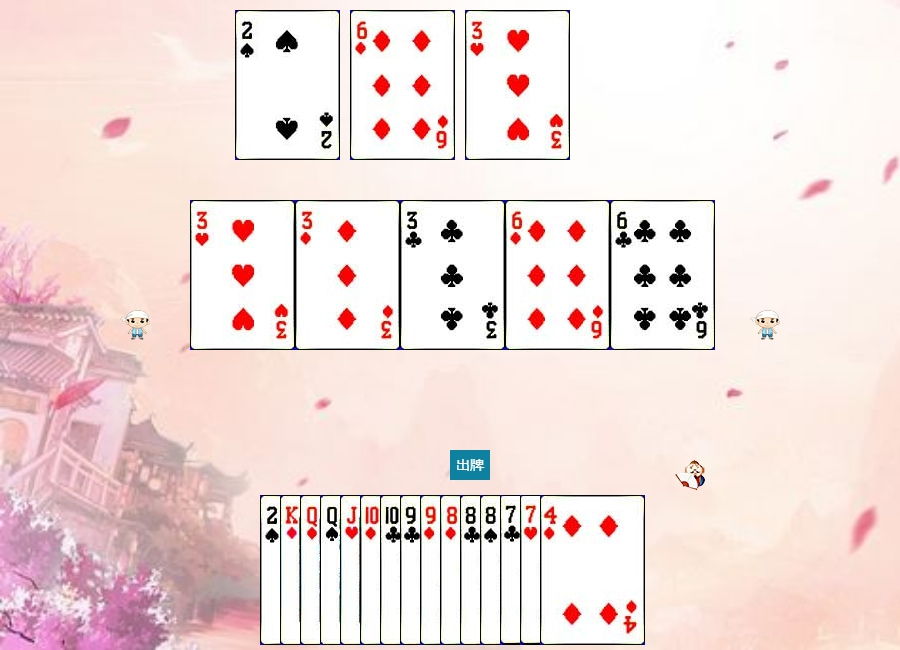10~1: (360, 495, 465, 645)
10~2: (380, 495, 485, 645)
11~3: (340, 495, 445, 645)
12~1: (300, 495, 405, 645)
12~4: (320, 495, 425, 645)
13~1: (280, 495, 385, 645)
15~4: (235, 10, 340, 160), (260, 495, 365, 645)
3~1: (295, 200, 400, 350)
3~2: (400, 200, 505, 350)
3~3: (465, 10, 570, 160), (190, 200, 295, 350)
4~1: (540, 495, 645, 645)
6~1: (350, 10, 455, 160), (505, 200, 610, 350)
6~2: (610, 200, 715, 350)
7~2: (500, 495, 605, 645)
7~3: (520, 495, 625, 645)
8~1: (440, 495, 545, 645)
8~2: (460, 495, 565, 645)
8~4: (480, 495, 585, 645)
9~1: (420, 495, 525, 645)
9~2: (400, 495, 505, 645)
